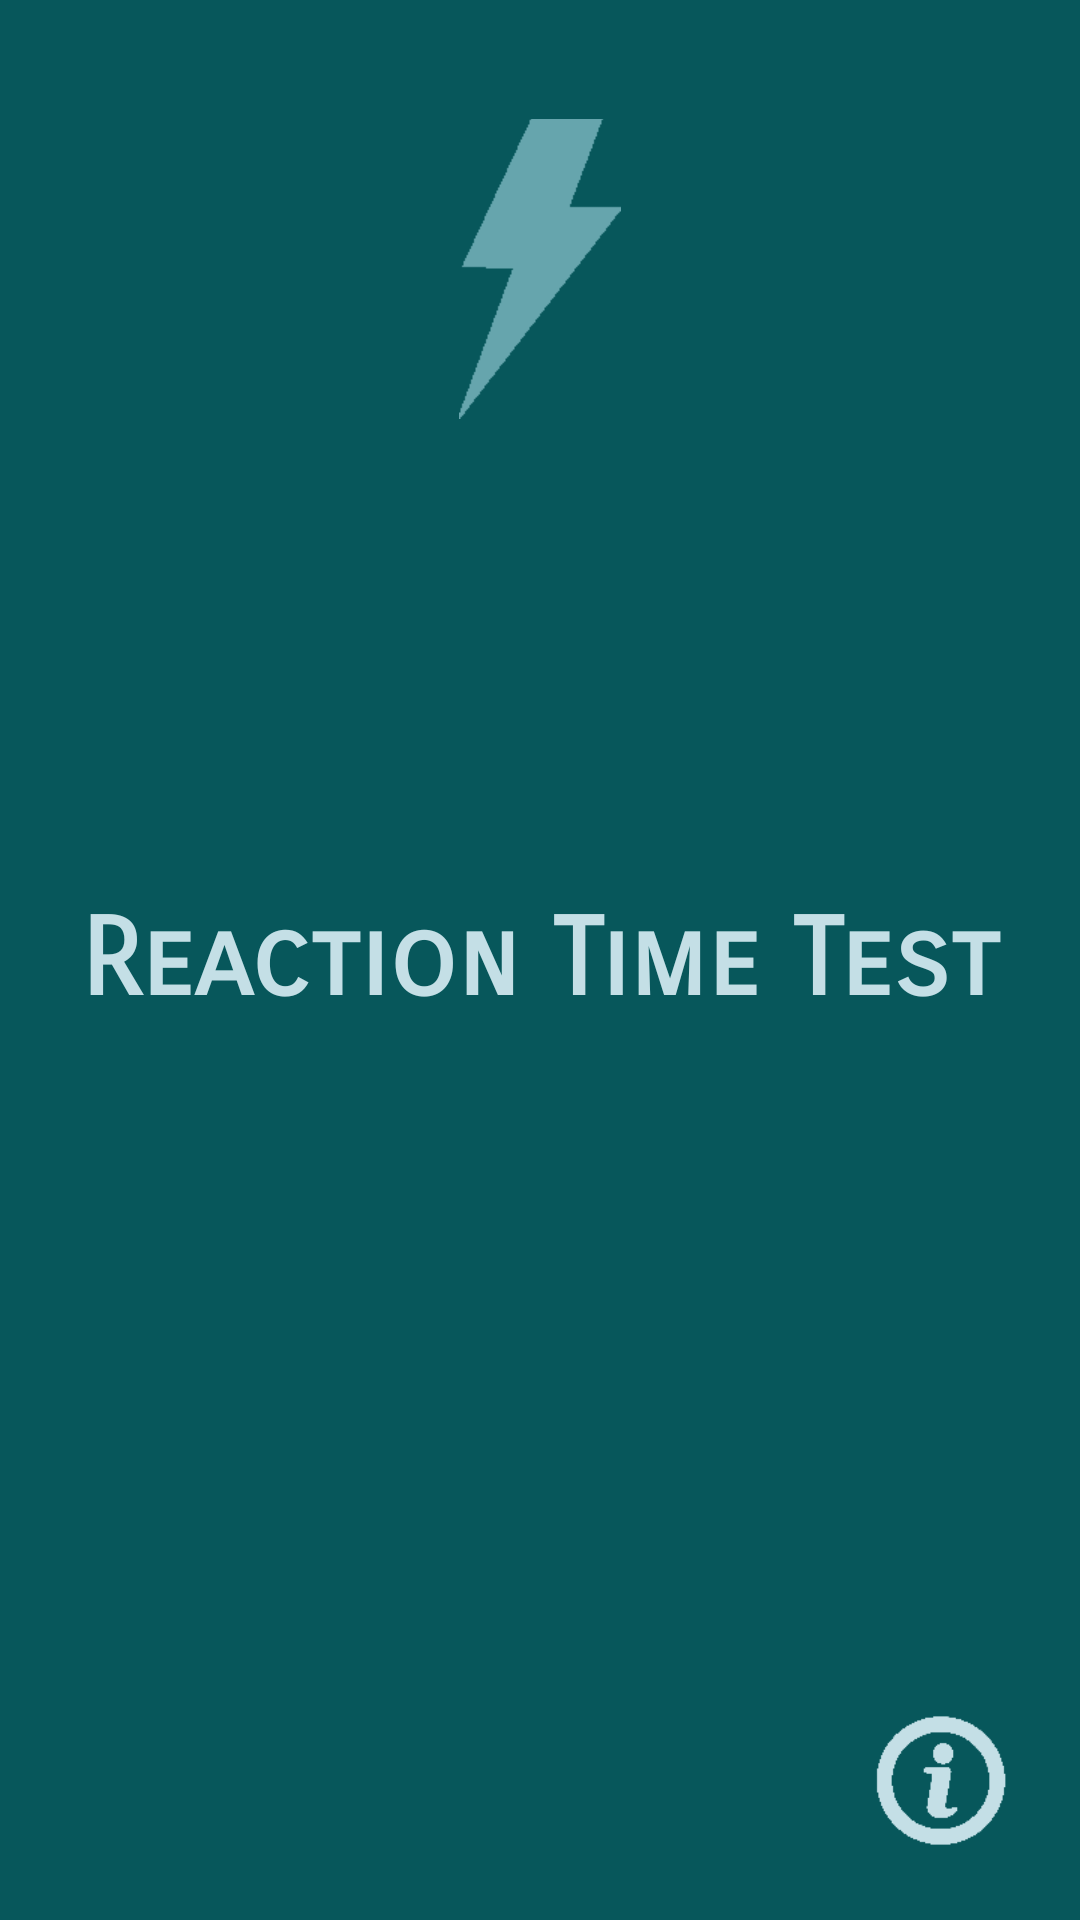

Where icons sit on this 1080w x 1920h app screen, as (x1=x1, y1=y1, x2=x2, y2=y2):
info: (x1=877, y1=1716, x2=1006, y2=1845)
